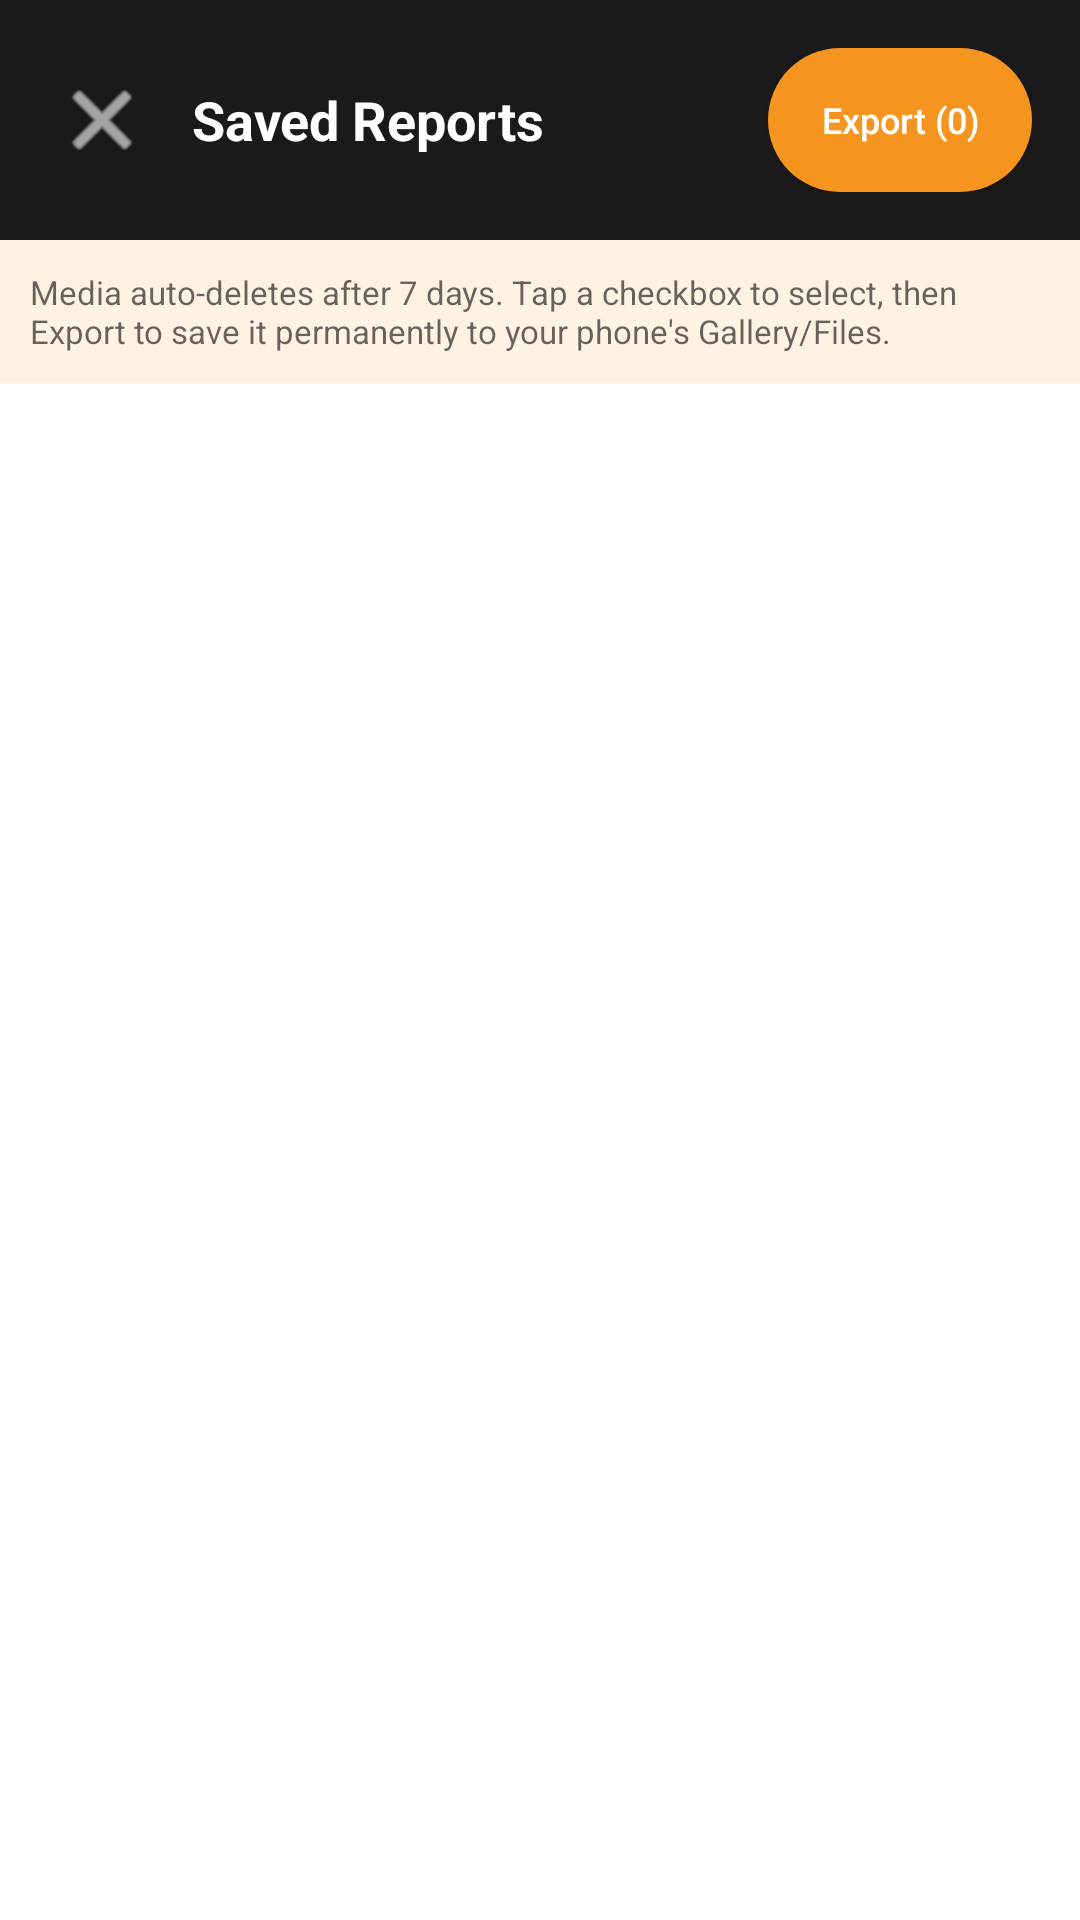

Named icons in this screenshot (1080px×1920px) and their centers, (x,y):
Back: (102,120)
